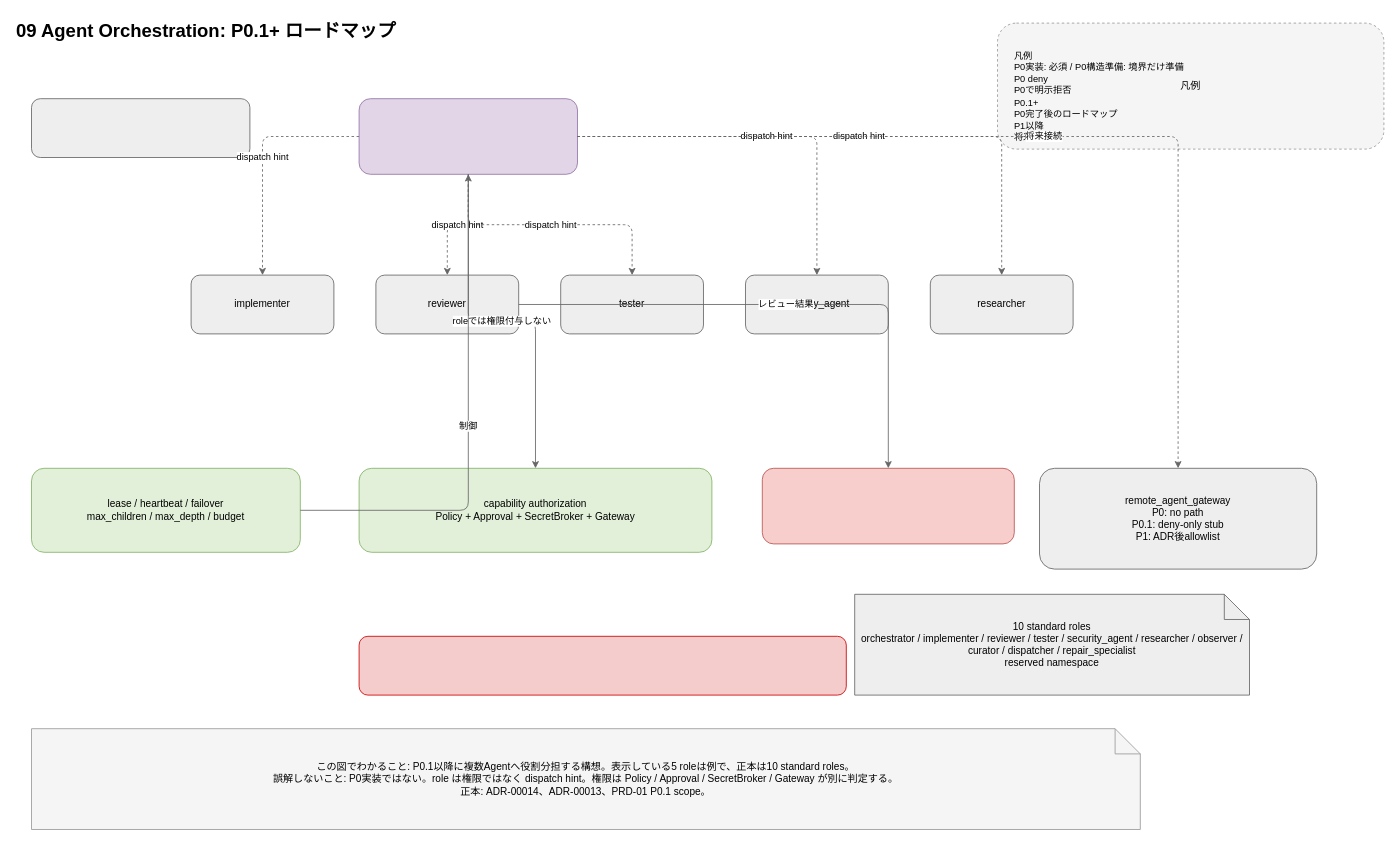
The diagram is 1399 pixels wide and 844 high, and some of its shapes have lost their labels. The centre of each missing label's shape, as x and y in pixels:
Orchestrator requester only / decider不可: pixel 468 136
P0.1+ roadmap P0実装ではない: pixel 140 128
review_artifacts pass / fail / needs_revision: pixel 887 505
禁止: role=security_agent だから secret_access 許可、という設計: pixel 602 665
